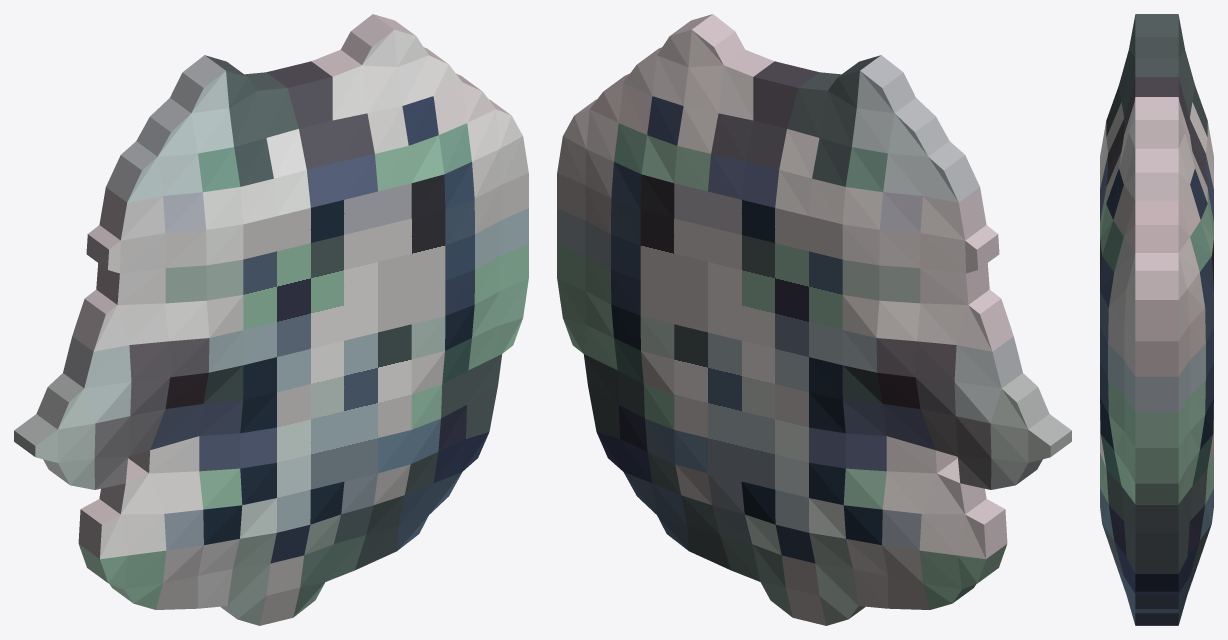
The model's file is gargoyle_statue.glb.
3 views of the same model, side by side, from view 1: azimuth 30°, elevation 25°; view 2: azimuth 150°, elevation 25°; view 3: azimuth 270°, elevation 25° (orthographic).
Visible parts, largest first — view 1: gargoyle_statue; view 2: gargoyle_statue; view 3: gargoyle_statue.
Part boxes in pixels (bbox=[...]): gargoyle_statue: bbox=[14, 14, 528, 625]; gargoyle_statue: bbox=[557, 14, 1071, 625]; gargoyle_statue: bbox=[1100, 14, 1213, 625].
Bounding box in the file's own units: 0.9163 × 1 × 0.1813.
Materials: 1 (1 with a texture image).
